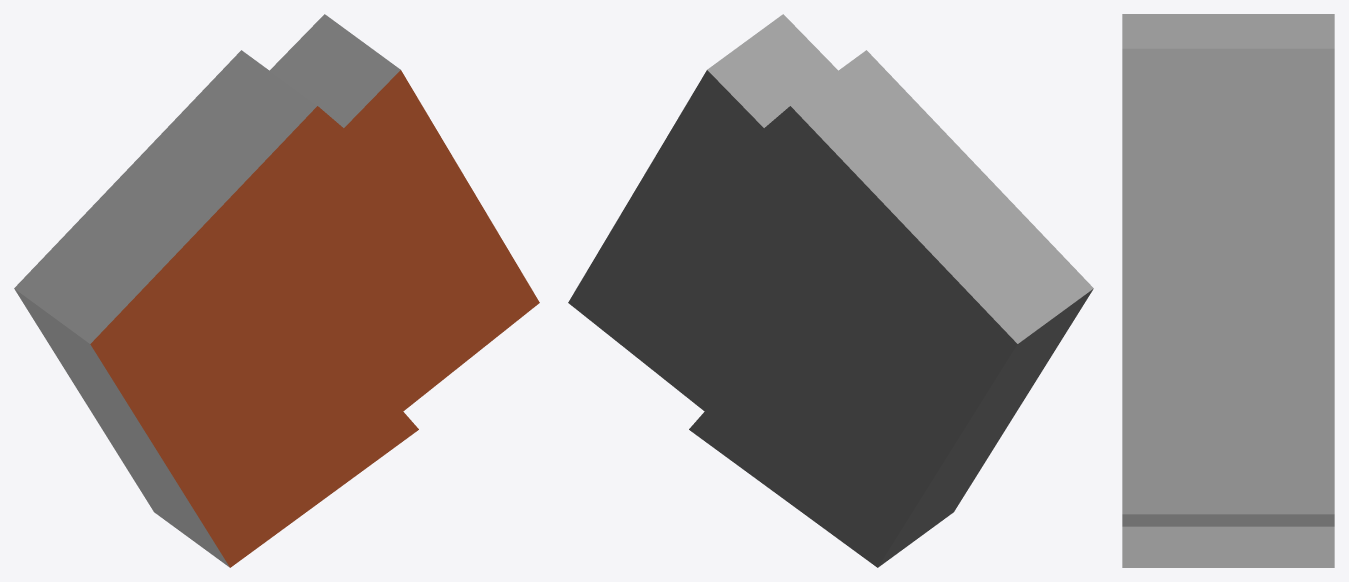
Rendered from construction_5893_assumed_A_Casa_h6m.obj.
3 renders of one model, left to right at view 1: azimuth 30°, elevation 25°; view 2: azimuth 150°, elevation 25°; view 3: azimuth 270°, elevation 25°, orthographic. The views are drawn at different scales.
Visible parts, largest first — view 1: construction_5893_assumed_A_Casa; view 2: construction_5893_assumed_A_Casa; view 3: construction_5893_assumed_A_Casa.
Part boxes in pixels (left/top/right/bottom): construction_5893_assumed_A_Casa: left=14, top=14, right=539, bottom=567; construction_5893_assumed_A_Casa: left=568, top=14, right=1093, bottom=567; construction_5893_assumed_A_Casa: left=1122, top=14, right=1334, bottom=567.
Size of the model in its own units: 20.44 by 19.83 by 6.
